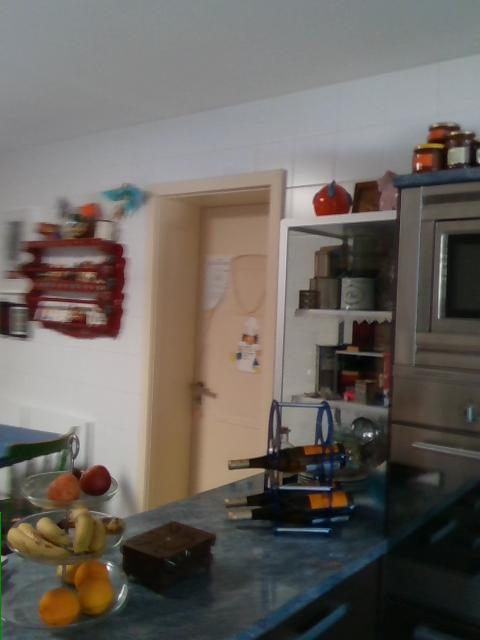door: (193, 204, 266, 499)
